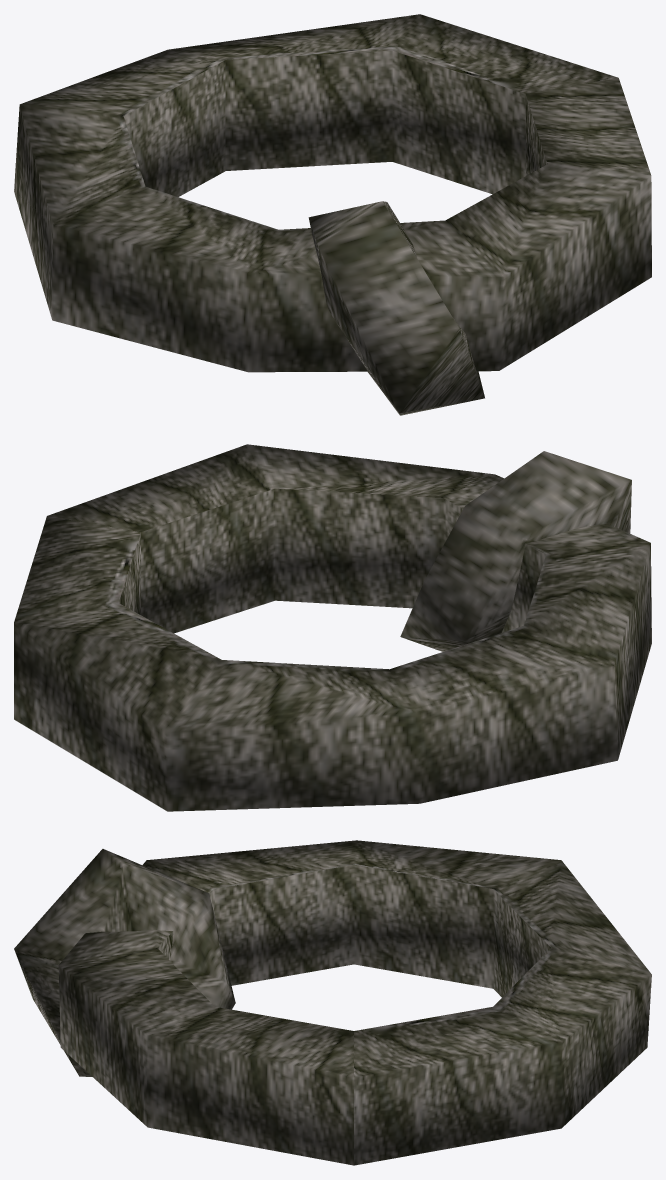
The model's file is TI_Knot_03.fbx.
3 views of the same model, one above another, from view 1: azimuth 30°, elevation 25°; view 2: azimuth 150°, elevation 25°; view 3: azimuth 270°, elevation 25° (orthographic). The views are drawn at different scales.
Parts seen in each view (by area): view 1: TI_Knot_03; view 2: TI_Knot_03; view 3: TI_Knot_03.
Part boxes in pixels (x1,y1,x2,y2): TI_Knot_03: [14, 14, 651, 415]; TI_Knot_03: [14, 444, 651, 811]; TI_Knot_03: [14, 840, 651, 1165].
Size of the model in its own units: 0.3173 by 0.1205 by 0.345.
